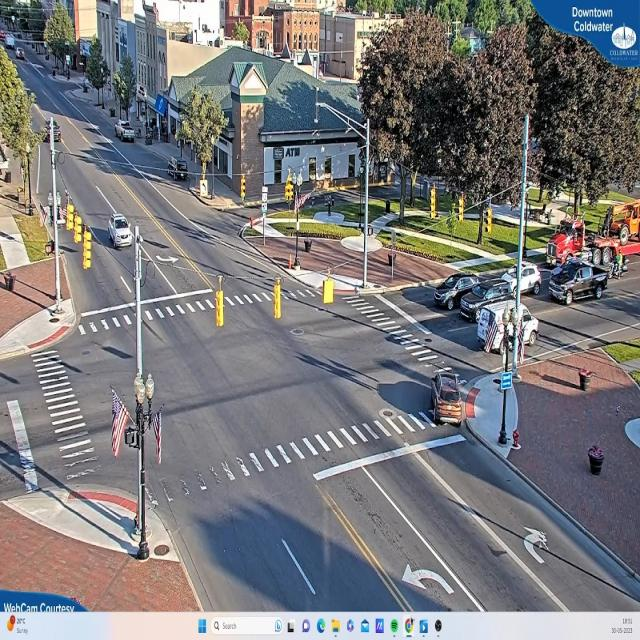car: (547, 260, 610, 306), (433, 275, 485, 308), (112, 214, 136, 248), (117, 121, 137, 145)
